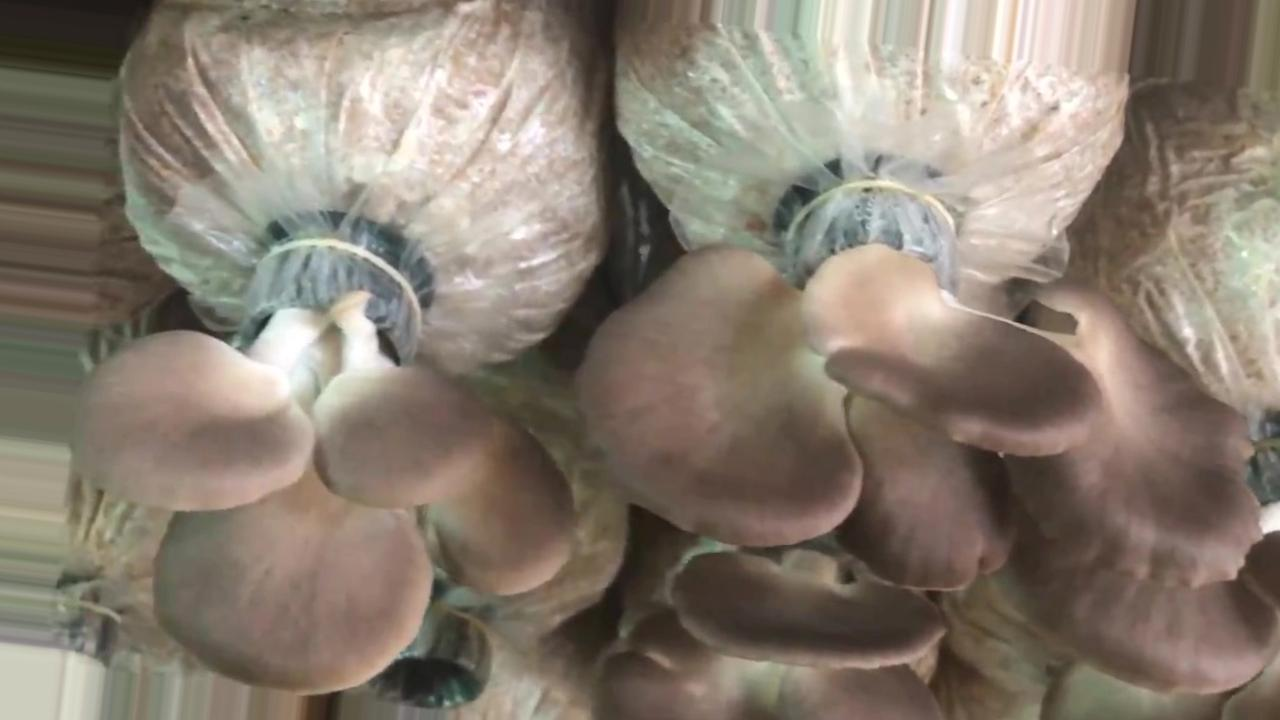nam: (570, 186, 1100, 668), (71, 239, 573, 696), (1011, 285, 1280, 693), (591, 616, 942, 720)
